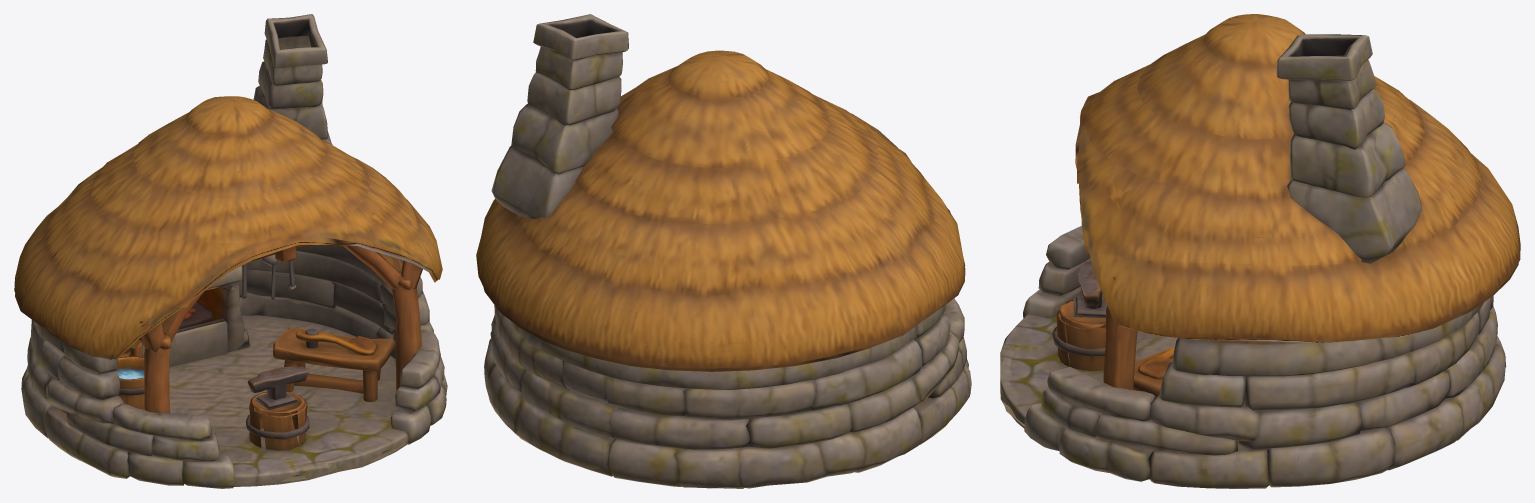
Rendered from forja_sumicio.glb.
The picture shows the model from 3 angles, left to right: view 1: azimuth 30°, elevation 25°; view 2: azimuth 150°, elevation 25°; view 3: azimuth 270°, elevation 25°; orthographic projection. The views are drawn at different scales.
Visible parts, largest first — view 1: geometry_0; view 2: geometry_0; view 3: geometry_0.
Part boxes in pixels (left/top/right/bottom): geometry_0: left=14, top=14, right=447, bottom=488; geometry_0: left=476, top=14, right=971, bottom=488; geometry_0: left=1000, top=14, right=1520, bottom=488.
Bounding box in the file's own units: 1 × 0.8486 × 1.
Materials: 1 (1 with a texture image).
